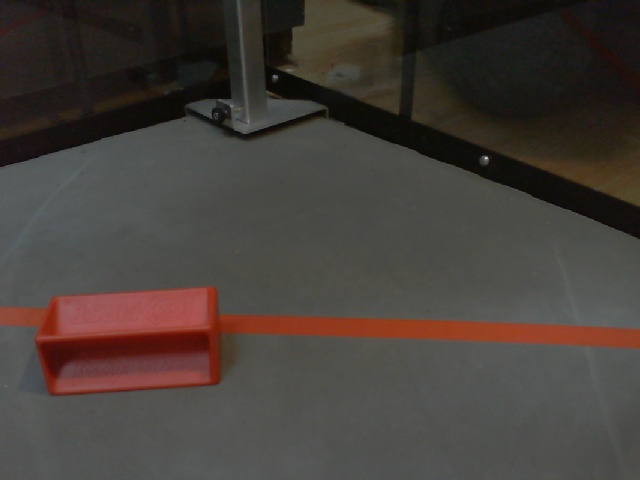RedSample: (38, 283, 222, 402)
